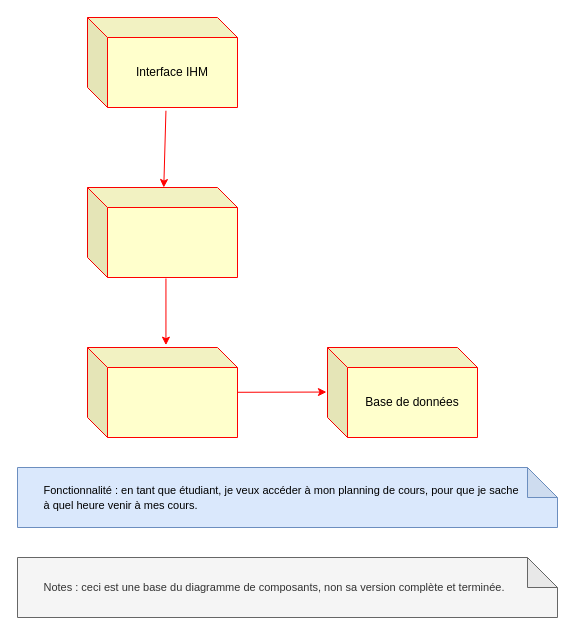
This 575x635 diagram has some shape labels left out. The shapes that lost their labels are listed below. From the top down, each one's centre as x and y in pixels, then its label:
At [162,232]: "Traitement".
At [162,392]: "Entités".
